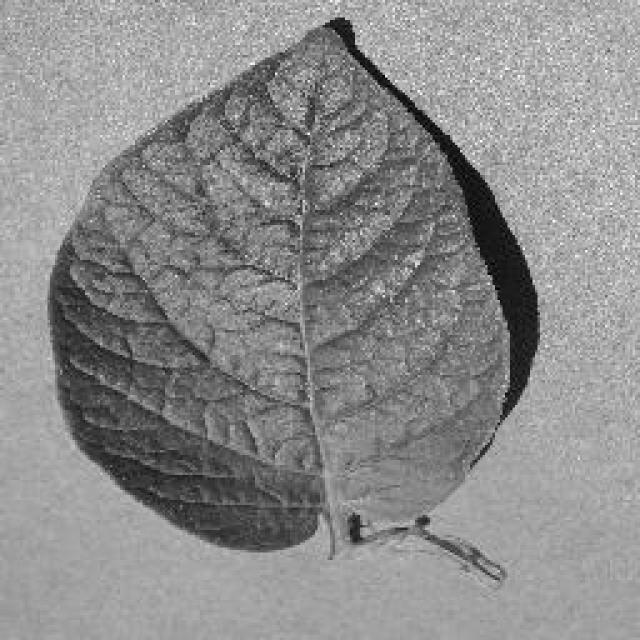Potato: (45, 12, 540, 578)
